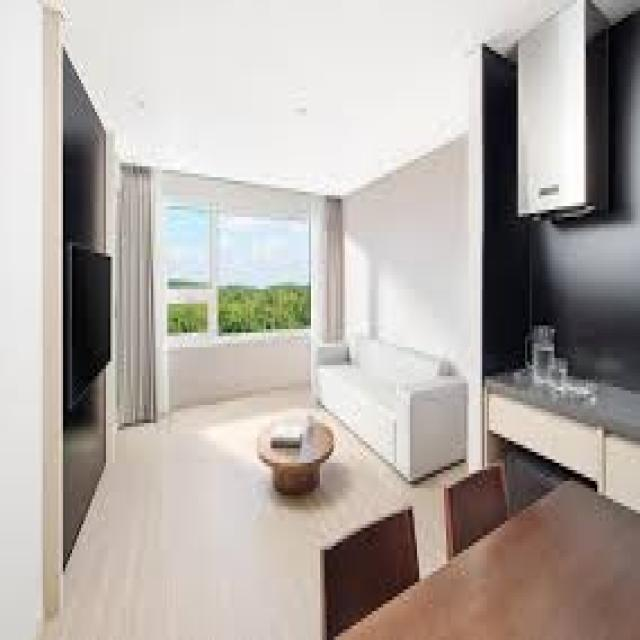Sofa: (312, 336, 467, 481)
Table: (254, 413, 334, 498)
tv: (67, 243, 113, 403)
window: (119, 169, 345, 335)
